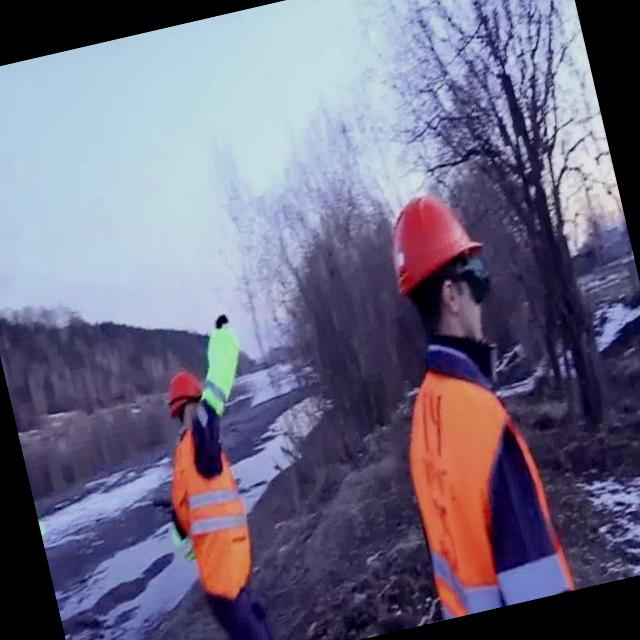vest: (389, 340, 576, 616), (160, 433, 267, 608), (187, 320, 254, 426)
